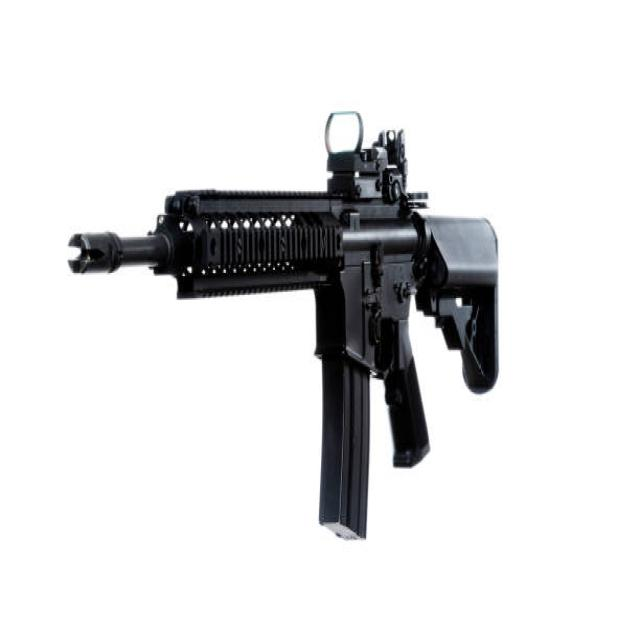rifle: (66, 100, 514, 563)
